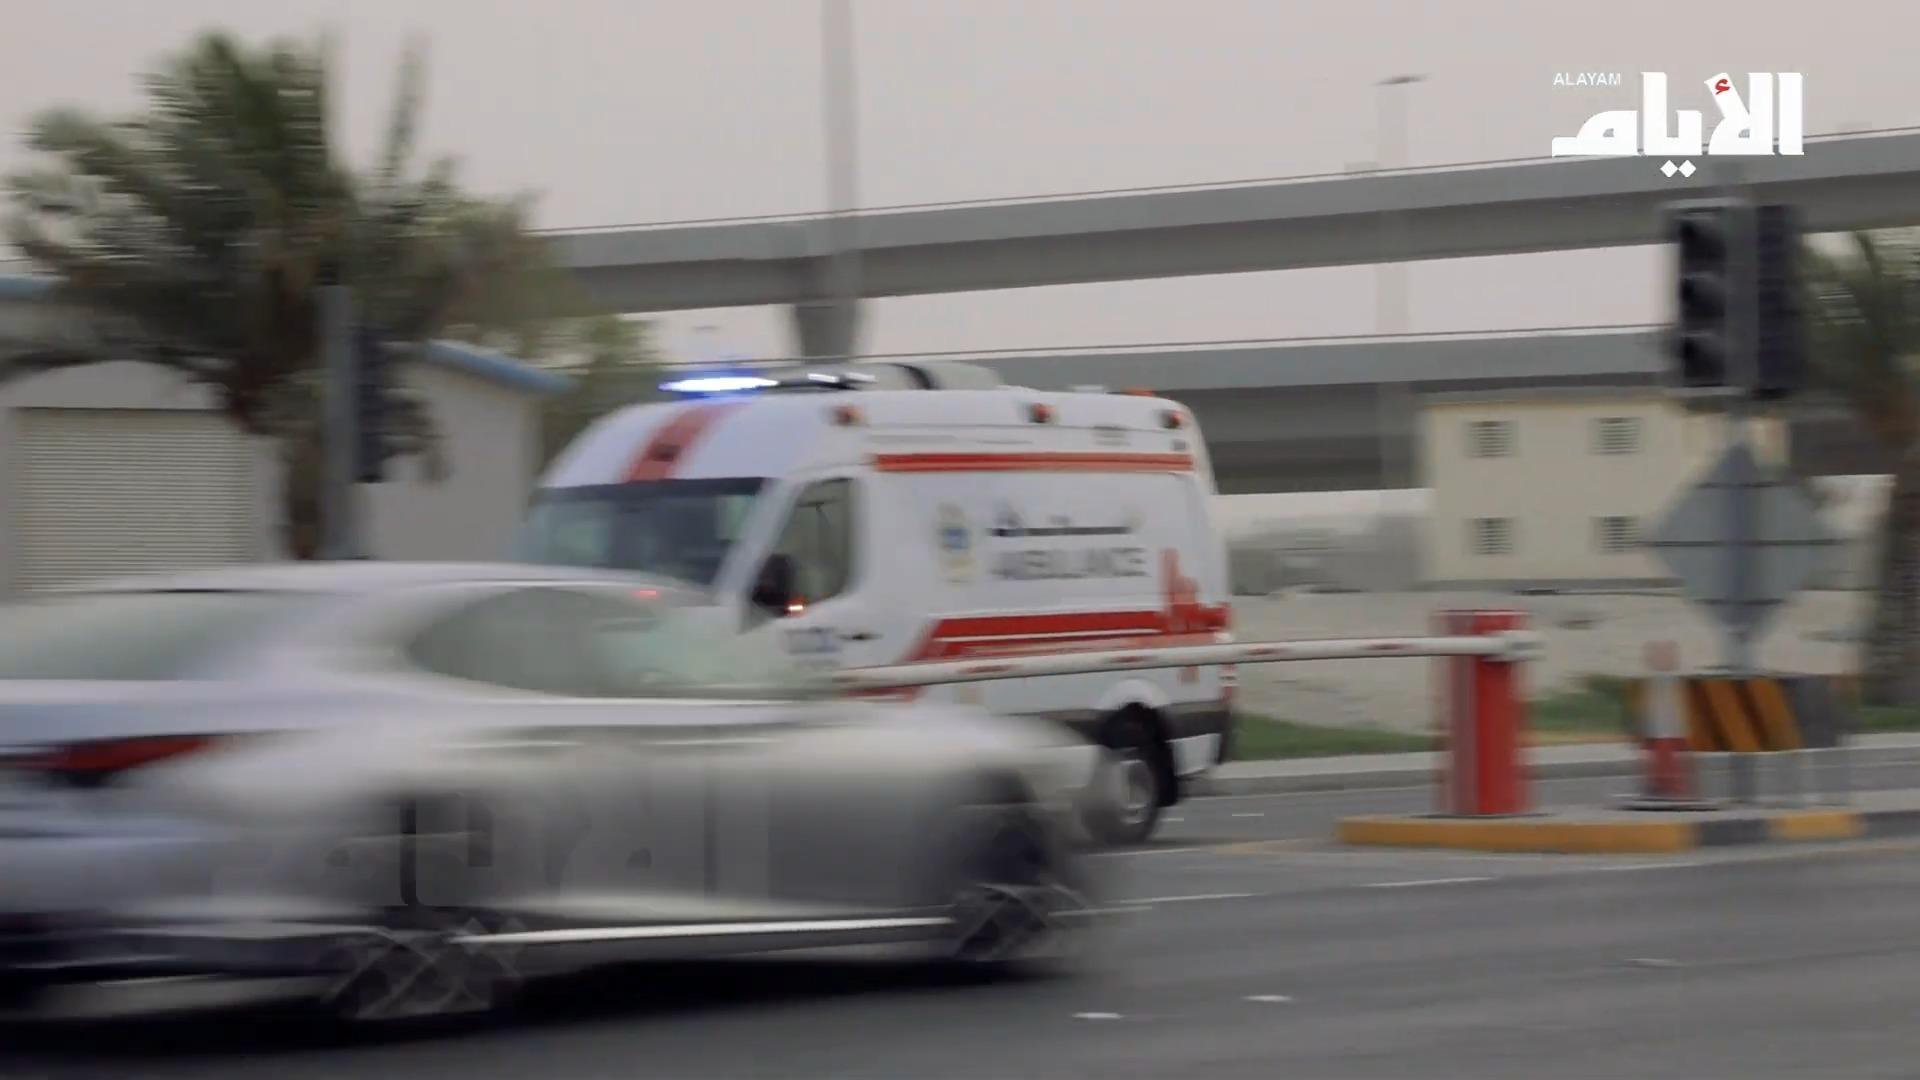ambulance_on: (488, 364, 1234, 845)
